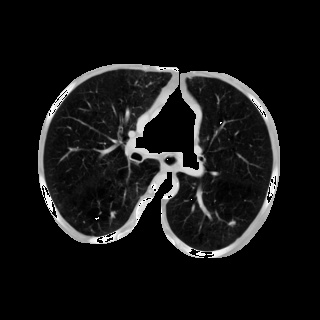PN: (228, 219, 236, 227)
